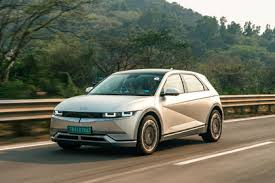Honda Ioniq: (45, 66, 226, 157)
